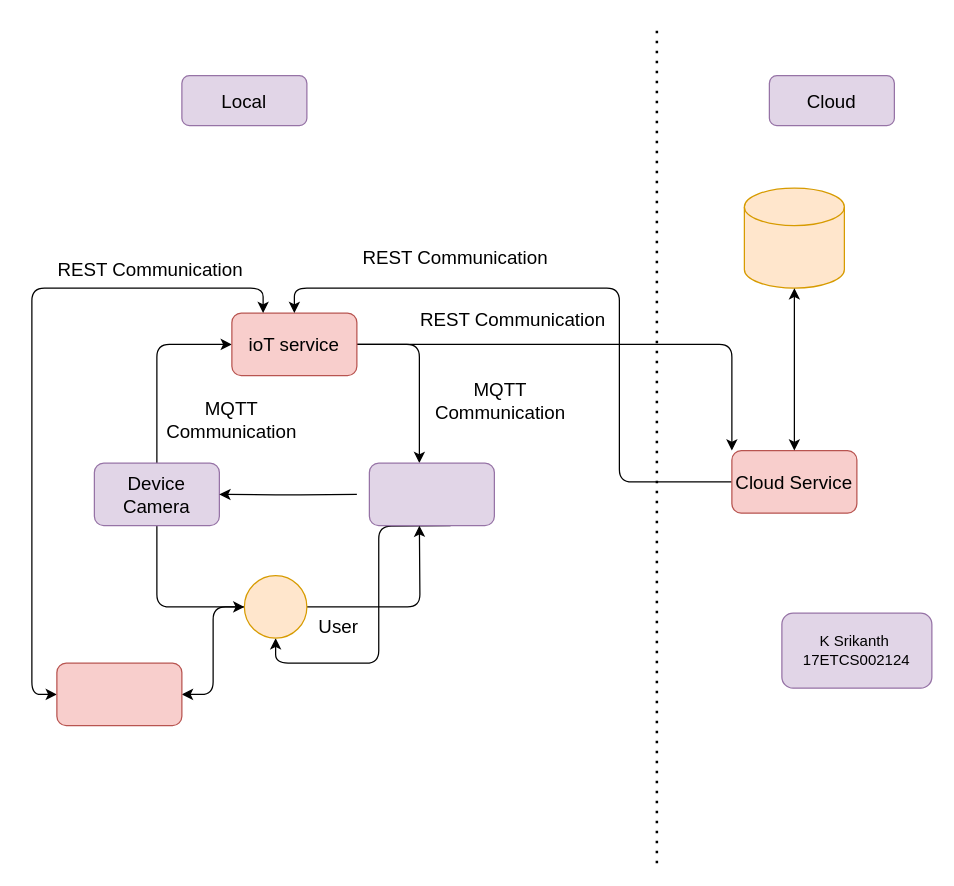
This 954x886 diagram has some shape labels left out. The shapes that lost their labels are listed below. From the top down, each one's centre as x and y in pixels, then its label:
(x=793, y=237): Database
(x=431, y=494): Device Door
(x=119, y=694): Mobile Application
